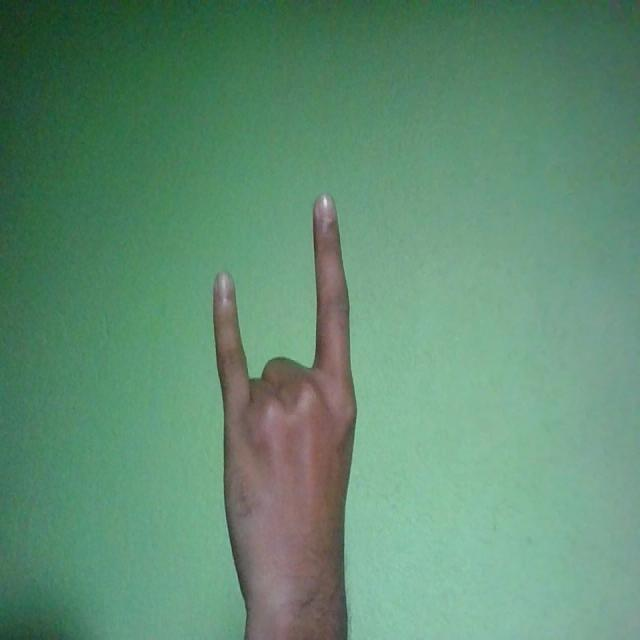open Plam: (213, 192, 359, 632)
